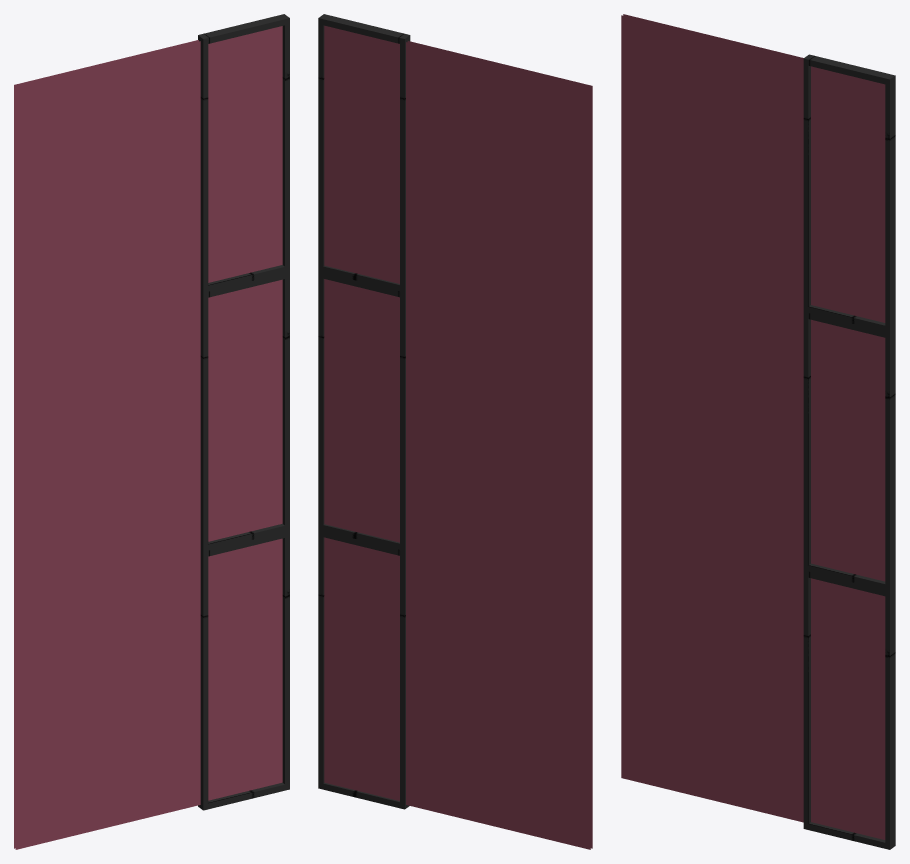
The model's file is MCHouse-WindowB3.fbx.
The picture shows the model from 3 angles, left to right: view 1: azimuth 30°, elevation 25°; view 2: azimuth 150°, elevation 25°; view 3: azimuth 330°, elevation 25°; orthographic projection.
Parts seen in each view (by area): view 1: MCHouse-WindowB3; view 2: MCHouse-WindowB3; view 3: MCHouse-WindowB3.
Boxes of the visible parts, x1,y1,x2,y2 form: MCHouse-WindowB3: [14, 14, 289, 849]; MCHouse-WindowB3: [318, 14, 592, 849]; MCHouse-WindowB3: [621, 14, 895, 849].
Bounding box in the file's own units: 282 × 767 × 10.
